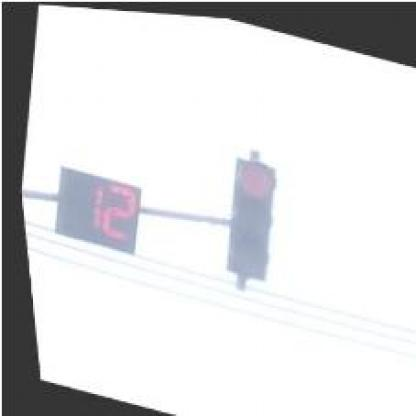red: (208, 150, 283, 282)
